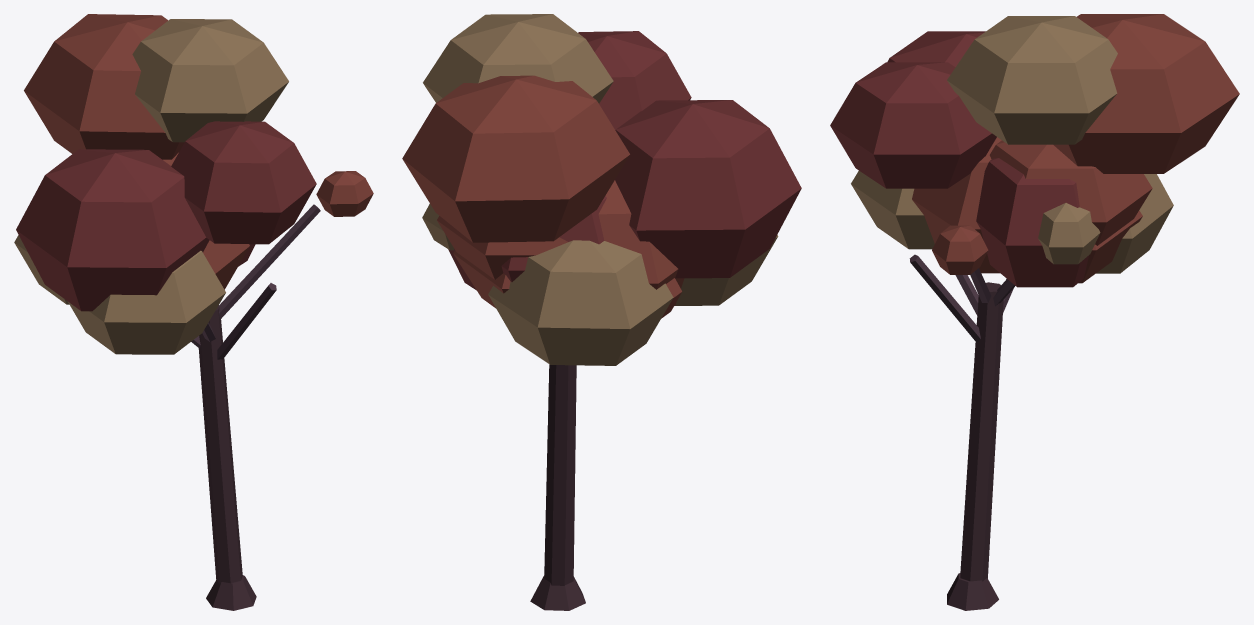
The model's file is copac_3.glb.
The picture shows the model from 3 angles, left to right: view 1: azimuth 30°, elevation 25°; view 2: azimuth 150°, elevation 25°; view 3: azimuth 270°, elevation 25°; orthographic projection. The views are drawn at different scales.
Parts seen in each view (by area): view 1: Copac; view 2: Copac; view 3: Copac.
Boxes of the visible parts, x1,y1,x2,y2 form: Copac: (14, 14, 373, 610); Copac: (402, 14, 801, 610); Copac: (830, 14, 1239, 610).
Bounding box in the file's own units: 4.56 × 7.47 × 4.75.
